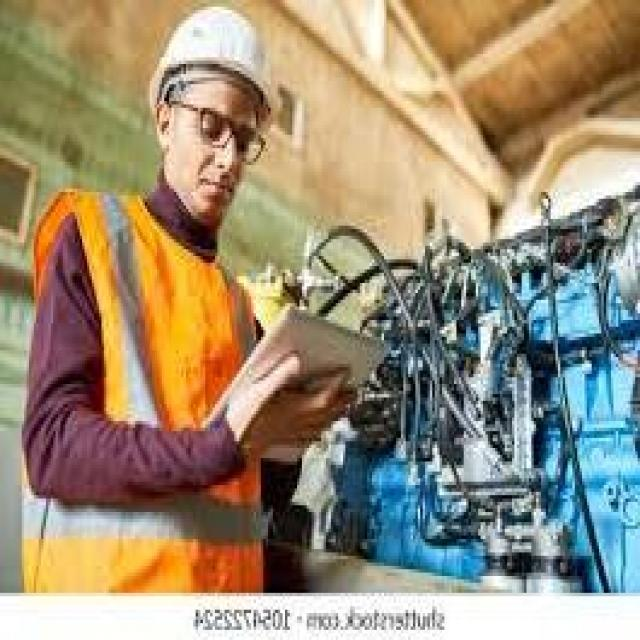Reflective-Jacket: (17, 178, 273, 600)
Safety-Helmet: (140, 0, 289, 131)
